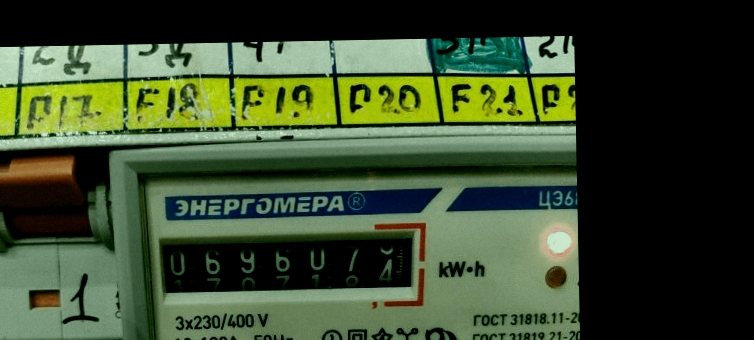0: (166, 246, 187, 277), (307, 241, 327, 271)
4: (374, 255, 394, 284)
6: (200, 245, 223, 275), (272, 243, 292, 272)
7: (342, 241, 360, 271)
9: (237, 245, 256, 274)
screen: (142, 215, 428, 310)
